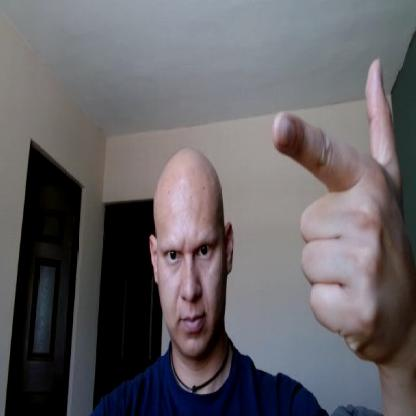G: (271, 60, 412, 354)
